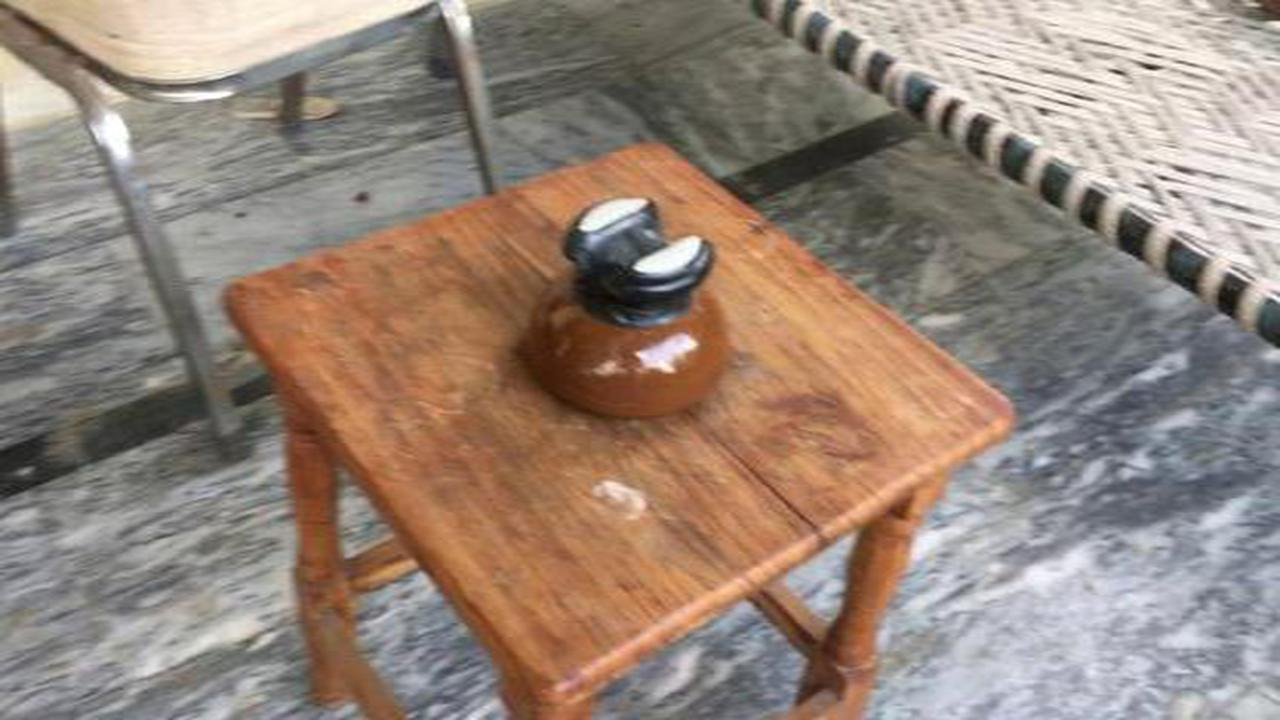insulator_pin: (505, 183, 754, 437)
